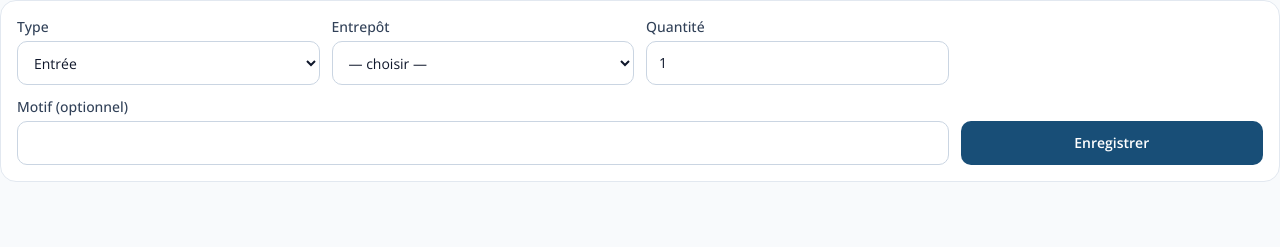
Test: MovementForm › étant donné un refus de l'API, quand enregistrer, alors le motif métier est affiché
This screenshot has width=1280, height=247.
Select "Sortie" in the dropdown labelled "Type" at (168, 63), box top-left (17, 41), bottom-right (320, 85)
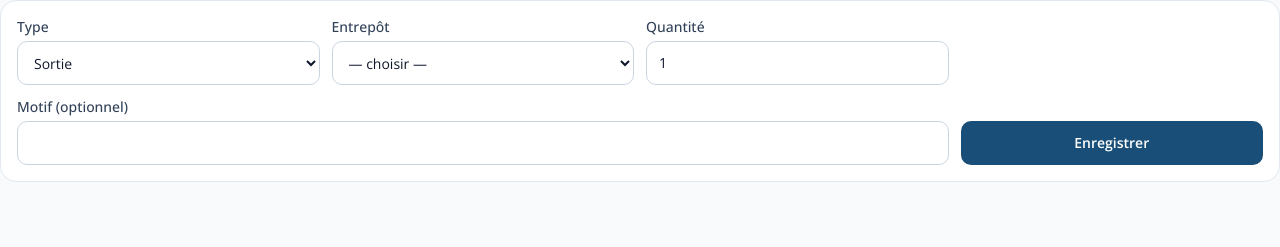
Select "Boutique" in the dropdown labelled "Entrepôt" at (483, 63), box top-left (332, 41), bottom-right (634, 85)
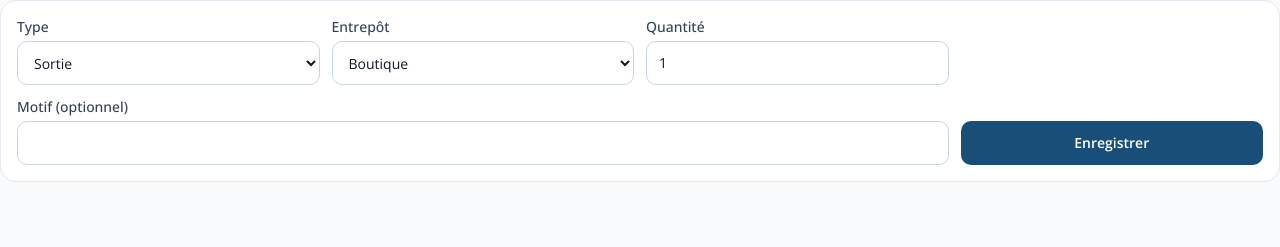
Replace the text in the number field with "5" at (797, 63), box top-left (646, 41), bottom-right (948, 85)
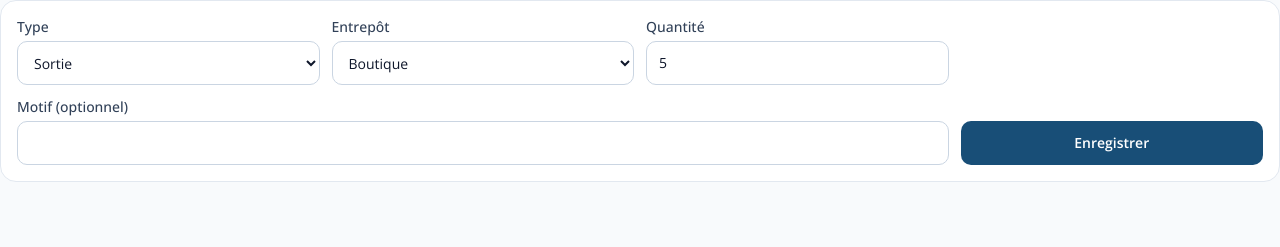
Click the button "Enregistrer" at (1112, 143), box top-left (960, 121), bottom-right (1263, 165)
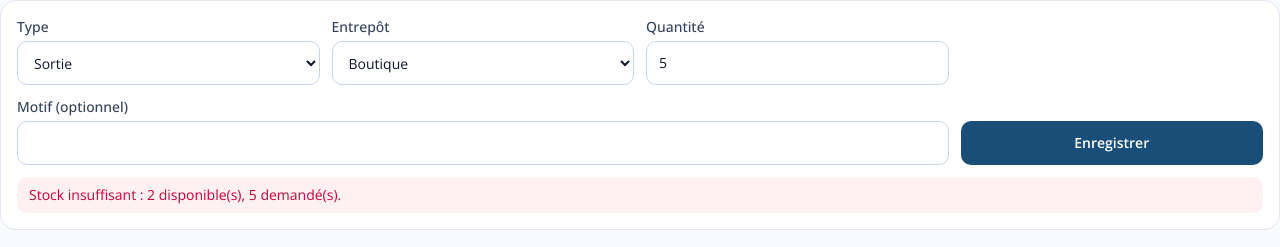
Check: the message reads "Stock insuffisant : 2 disponible(s), 5 demandé(s).", box top-left (29, 185), bottom-right (341, 204)
